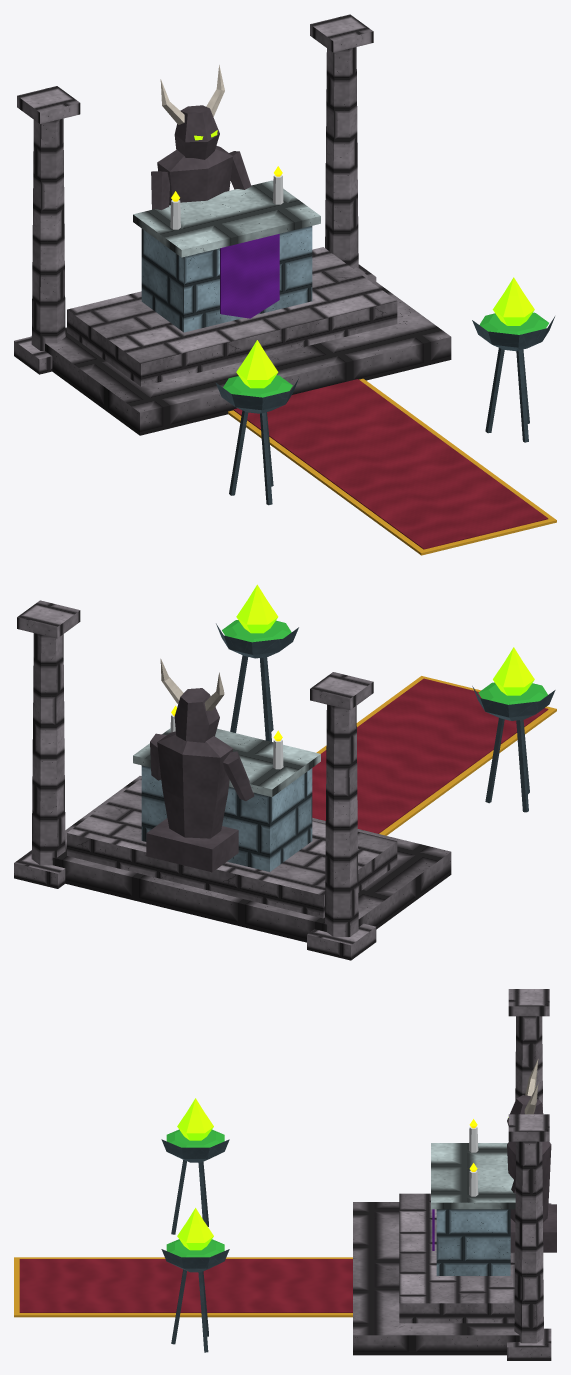
Rendered from temple.glb.
3 views of the same model, one above another, from view 1: azimuth 30°, elevation 25°; view 2: azimuth 150°, elevation 25°; view 3: azimuth 270°, elevation 25° (orthographic). The views are drawn at different scales.
Parts seen in each view (by area): view 1: base_mesh, flame_2_mesh, flame_3_mesh; view 2: base_mesh, flame_3_mesh, flame_2_mesh; view 3: base_mesh, flame_3_mesh, flame_2_mesh.
Boxes of the visible parts, <box> form: base_mesh: <box>14,14,556,555</box>; flame_2_mesh: <box>236,340,278,388</box>; flame_3_mesh: <box>492,277,534,325</box>; base_mesh: <box>14,600,556,960</box>; flame_3_mesh: <box>236,584,278,633</box>; flame_2_mesh: <box>493,647,534,695</box>; base_mesh: <box>14,989,556,1360</box>; flame_3_mesh: <box>177,1208,213,1250</box>; flame_2_mesh: <box>177,1098,213,1140</box>.
Size of the model in its own units: 1.84 by 1.36 by 2.93.
Materials: 18 (10 with a texture image).
